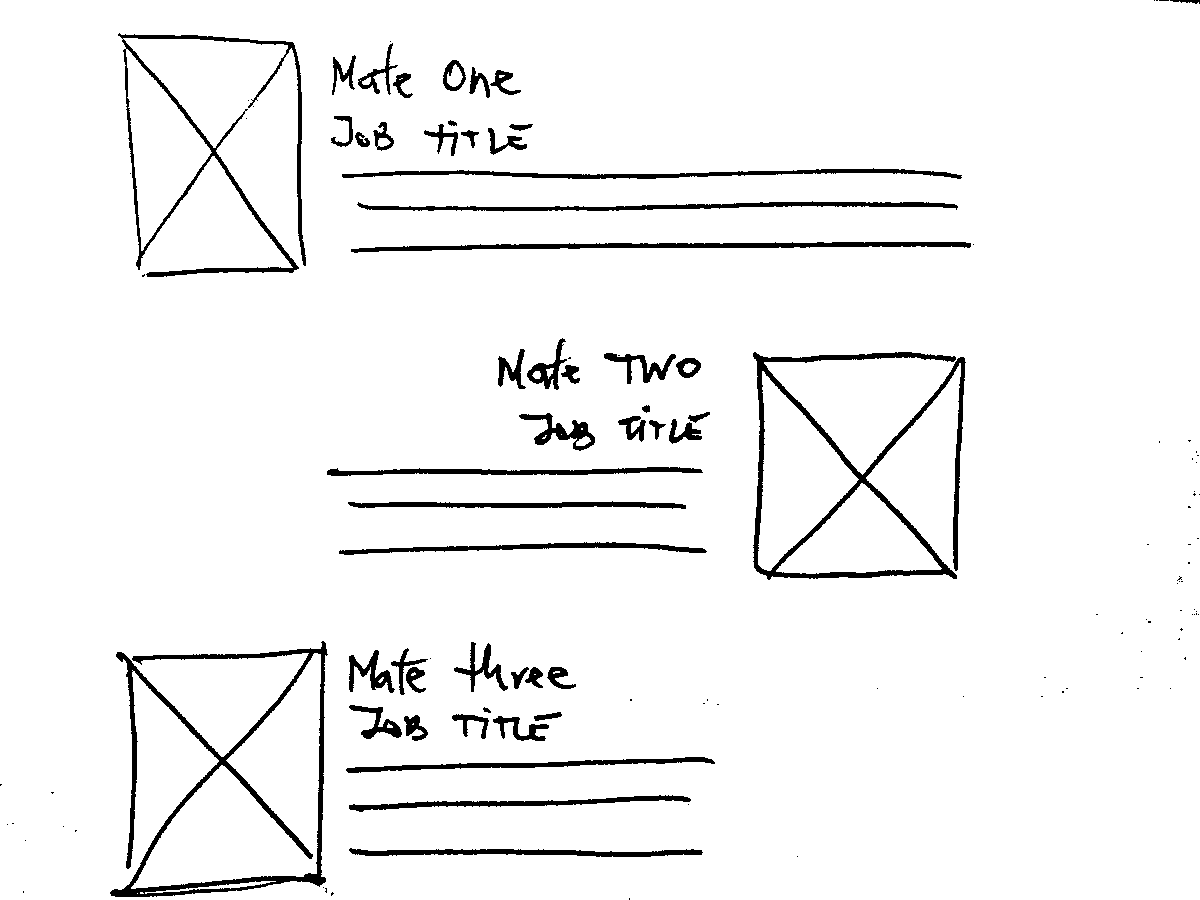Image: (111, 642, 337, 900), (746, 347, 967, 585), (113, 28, 311, 279)
Paragraph: (335, 159, 971, 253), (342, 753, 720, 862), (319, 459, 710, 560)
